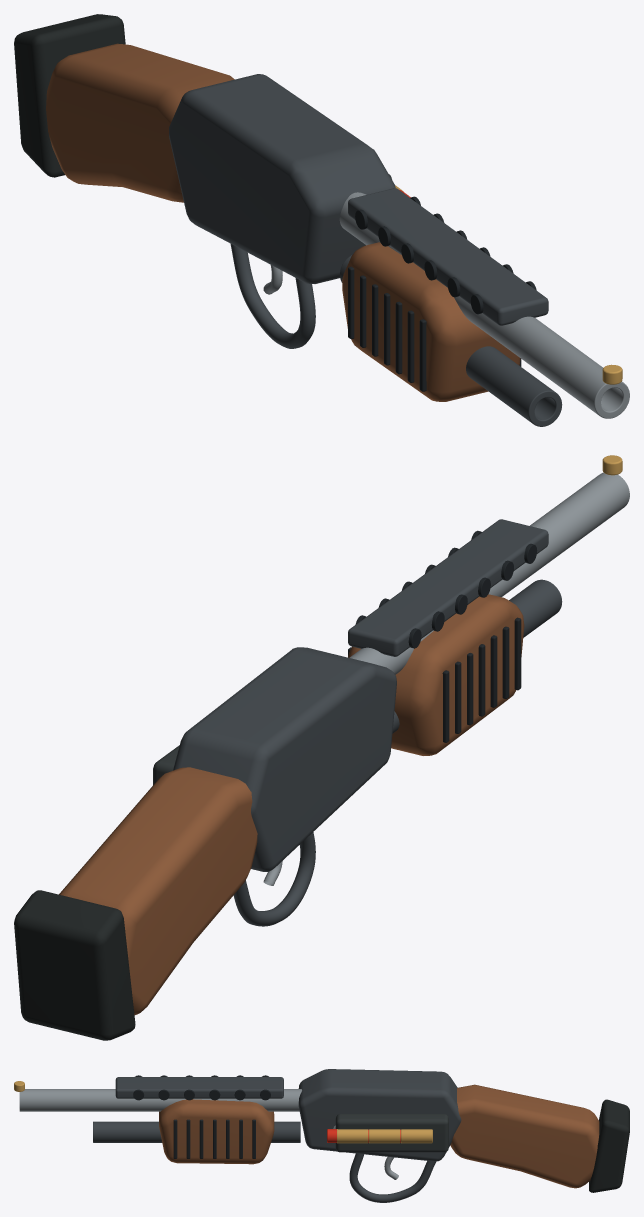
File: shotgun.glb
3 views of the same model, one above another, from view 1: azimuth 30°, elevation 25°; view 2: azimuth 150°, elevation 25°; view 3: azimuth 270°, elevation 25° (orthographic). The views are drawn at different scales.
Parts seen in each view (by area): view 1: Forged receiver, Walnut stock, Pump walnut forend, Heat shield, Recoil pad, Barrel, Magazine tube, Trigger guard, Pump groove, Pump groove.001, Pump groove.002; view 2: Forged receiver, Walnut stock, Recoil pad, Pump walnut forend, Heat shield, Barrel, Trigger guard, Magazine tube; view 3: Walnut stock, Forged receiver, Pump walnut forend, Barrel, Heat shield, Shell saddle, Recoil pad, Magazine tube, Trigger guard, Shotgun shell, Shotgun shell.001, Shotgun shell.002.
Part boxes in pixels (x1,y1,x2,y2): Forged receiver: (169,74,395,283); Walnut stock: (46,43,234,202); Pump walnut forend: (342,242,520,401); Heat shield: (348,188,548,325); Recoil pad: (14,14,125,177); Barrel: (339,192,629,418); Magazine tube: (340,255,562,426); Trigger guard: (230,244,315,348); Pump groove: (419,319,426,391); Pump groove.001: (407,310,414,382); Pump groove.002: (395,301,402,374); Forged receiver: (173,647,396,871); Walnut stock: (59,767,257,1014); Recoil pad: (14,890,135,1040); Pump walnut forend: (348,594,524,755); Heat shield: (348,519,548,656); Barrel: (349,472,629,674); Trigger guard: (233,832,315,926); Magazine tube: (392,579,562,733); Walnut stock: (450,1084,599,1188); Forged receiver: (298,1069,461,1161); Pump walnut forend: (159,1099,274,1164); Barrel: (19,1089,301,1111); Heat shield: (115,1077,283,1098); Shell saddle: (335,1114,448,1152); Recoil pad: (589,1099,629,1192); Magazine tube: (93,1121,300,1142); Trigger guard: (349,1153,436,1202); Shotgun shell: (337,1129,368,1143); Shotgun shell.001: (369,1129,400,1143); Shotgun shell.002: (401,1129,432,1143).
Size of the model in its own units: 0.275 by 0.4479 by 2.02.
